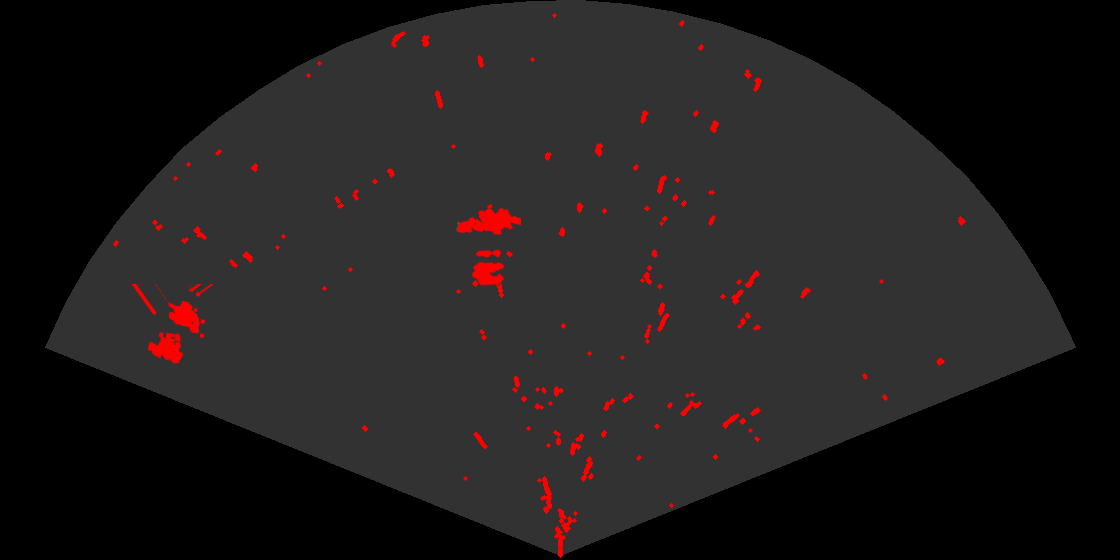ball: (470, 248, 506, 287)
cage: (130, 284, 215, 365)
frogman: (456, 202, 521, 237)
